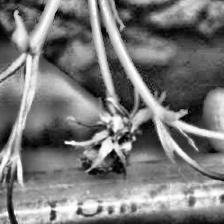Gray Mold: (65, 92, 149, 180)
